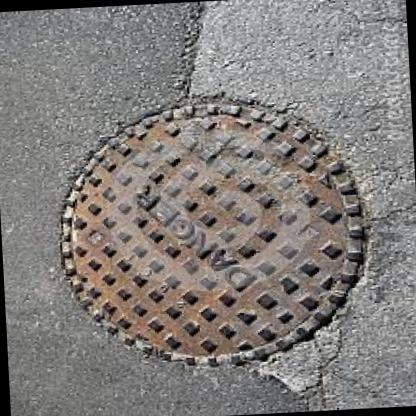manholes: (42, 60, 380, 392)
